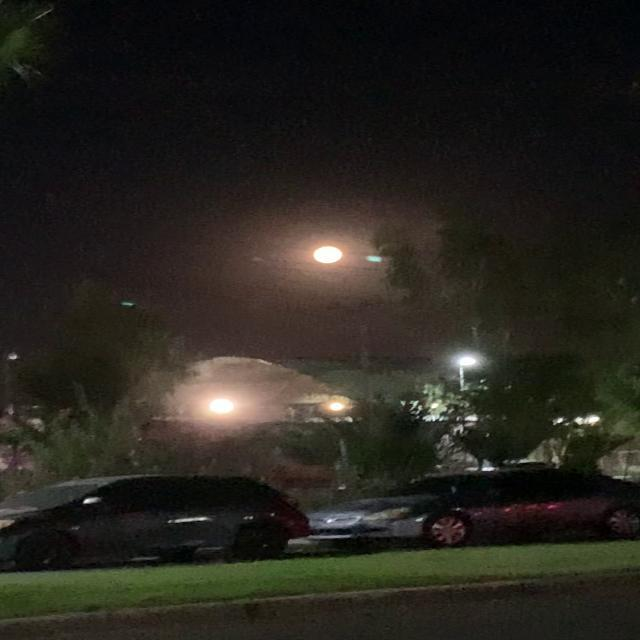moon: (304, 246, 357, 271)
